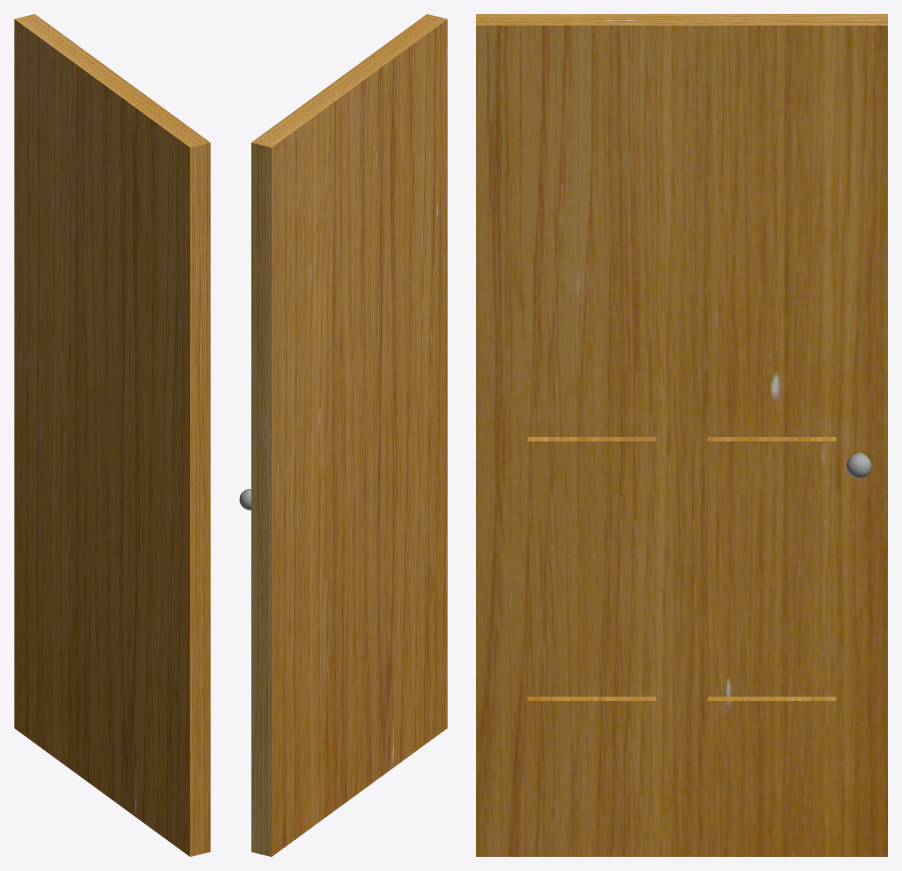
The model's file is Door.fbx.
The picture shows the model from 3 angles, left to right: view 1: azimuth 30°, elevation 25°; view 2: azimuth 150°, elevation 25°; view 3: azimuth 270°, elevation 25°; orthographic projection. The views are drawn at different scales.
Visible parts, largest first — view 1: pCube1; view 2: pCube1; view 3: pCube1.
Boxes of the visible parts, x1=… form: pCube1: x1=14, y1=14, x2=210, y2=856; pCube1: x1=251, y1=14, x2=447, y2=856; pCube1: x1=476, y1=14, x2=887, y2=856.
Size of the model in its own units: 0.1894 by 2.97 by 1.33.
